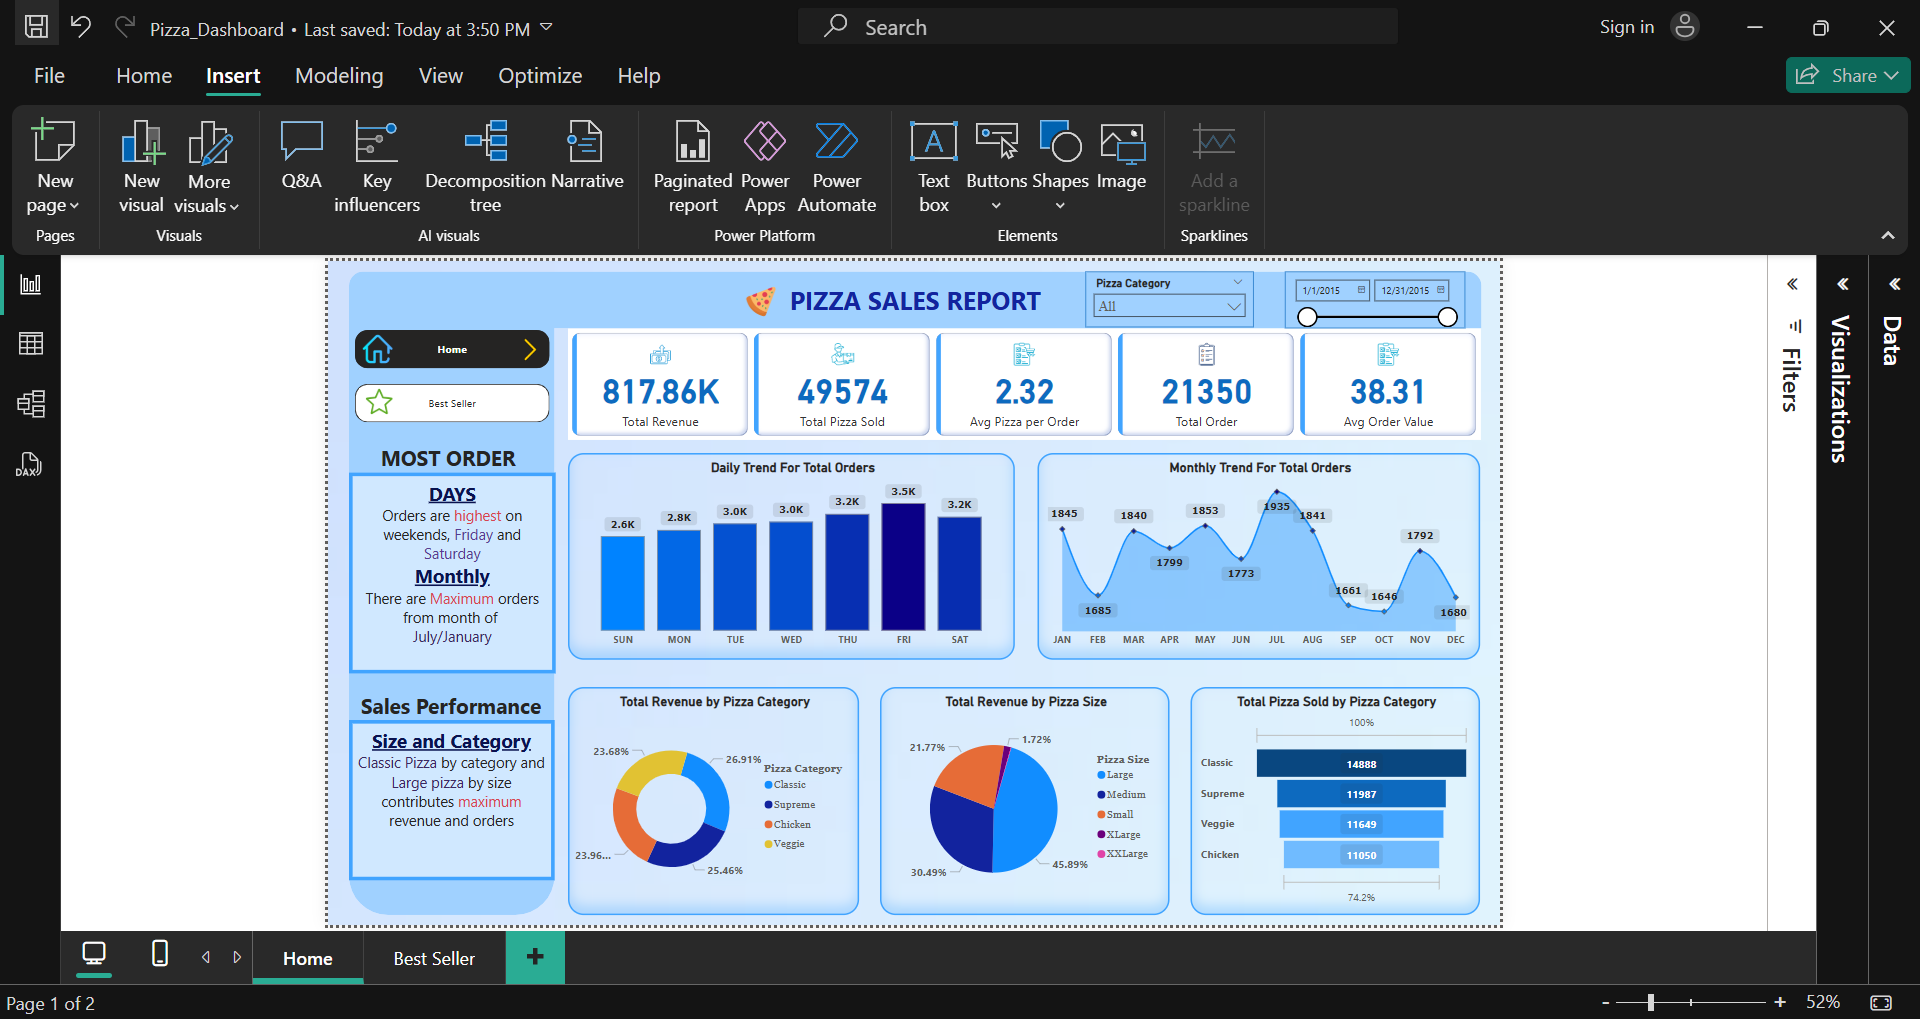

This screenshot's page, from the dashboard's own definition file:
{"tool":"powerbi","page":{"name":"Home","canvas":[1500,850],"ordinal":0},"visuals":[{"type":"shape","box":[26.9,84.5,263.1,752.7],"z":1000},{"type":"cardVisual","fields":{"Data":["pizza_sales.Total_Revenue","pizza_sales.Total_Pizza_Sold","pizza_sales.Avg_Pizza_per_Order","pizza_sales.Total_Order","pizza_sales.Avg_Order_Value"]},"box":[307.5,87.1,1168.9,142.6],"z":2000},{"type":"shape","box":[26.9,13.4,1449.8,73],"z":3000},{"type":"textbox","box":[572.2,23,359.1,61.4],"z":4000},{"type":"image","box":[514.6,26.9,78.7,49.9],"z":5000},{"type":"columnChart","title":"Daily Trend For Total Orders","fields":{"Category":["pizza_sales.Order Day"],"Y":["pizza_sales.Total_Order"]},"box":[307.2,245.8,572.2,265],"z":6000},{"type":"lineChart","title":"Monthly Trend For Total Orders","fields":{"Y":["pizza_sales.Total_Order"],"Category":["pizza_sales.Month"]},"box":[908.3,245.8,566.5,265],"z":7000},{"type":"donutChart","title":"Total Revenue by Pizza Category","fields":{"Y":["pizza_sales.Total_Revenue"],"Category":["pizza_sales.pizza_category"]},"box":[307.2,545.3,372.5,291.9],"z":8000},{"type":"pieChart","fields":{"Category":["pizza_sales.pizza_size"],"Y":["pizza_sales.Total_Revenue"]},"box":[706.6,545.3,370.6,291.9],"z":9000},{"type":"funnel","fields":{"Category":["pizza_sales.pizza_category"],"Y":["pizza_sales.Total_Pizza_Sold"]},"box":[1104.1,545.3,370.6,291.9],"z":10000},{"type":"textbox","box":[7.7,228.5,299.6,57.6],"z":12000},{"type":"textbox","box":[26.9,270.8,265,257.3],"z":12001},{"type":"textbox","box":[26.9,587.6,263.1,205.5],"z":12002},{"type":"textbox","box":[7.7,545.3,299.6,57.6],"z":12004},{"type":"slicer","fields":{"Values":["pizza_sales.pizza_category"]},"box":[969.7,13.4,215.1,71],"z":12005},{"type":"slicer","fields":{"Values":["pizza_sales.order_date"]},"box":[1225.1,13.4,230.4,73],"z":12006},{"type":"pageNavigator","box":[34.6,88.3,249.6,49.9],"z":12007},{"type":"pageNavigator","box":[34.6,157.5,249.6,49.9],"z":12008},{"type":"image","box":[234.3,94.1,49.9,38.4],"z":12009},{"type":"image","box":[34.6,88.3,57.6,48],"z":12010},{"type":"image","box":[34.6,157.5,61.4,44.2],"z":12011}]}

Visuals, with their boxes on the page's 1500x850 design canvas (x1, y1, x2, y2). These are canvas units, not pixel positions in the 1920x1019 screenshot, which may show the page scaled, cropped or inside an application window:
shape: 27/84/290/837
cardVisual - pizza_sales.Total_Revenue x pizza_sales.Total_Pizza_Sold: 308/87/1476/230
shape: 27/13/1477/86
textbox: 572/23/931/84
image: 515/27/593/77
"Daily Trend For Total Orders" columnChart: 307/246/879/511
"Monthly Trend For Total Orders" lineChart: 908/246/1475/511
"Total Revenue by Pizza Category" donutChart: 307/545/680/837
pieChart - pizza_sales.pizza_size x pizza_sales.Total_Revenue: 707/545/1077/837
funnel - pizza_sales.pizza_category x pizza_sales.Total_Pizza_Sold: 1104/545/1475/837
textbox: 8/228/307/286
textbox: 27/271/292/528
textbox: 27/588/290/793
textbox: 8/545/307/603
slicer - pizza_sales.pizza_category: 970/13/1185/84
slicer - pizza_sales.order_date: 1225/13/1456/86
pageNavigator: 35/88/284/138
pageNavigator: 35/158/284/207
image: 234/94/284/132
image: 35/88/92/136
image: 35/158/96/202
